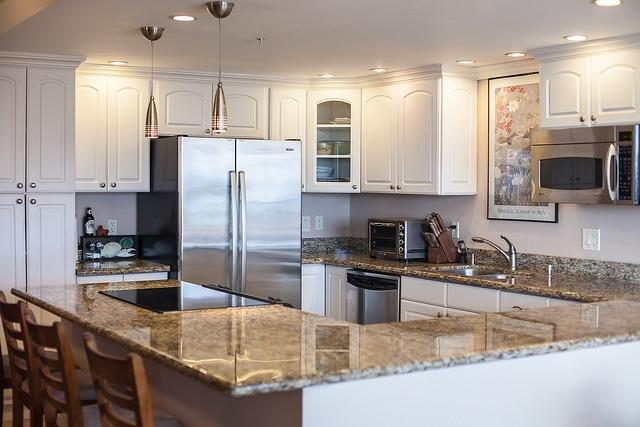Lemari: (0, 60, 76, 286), (359, 60, 478, 196)
